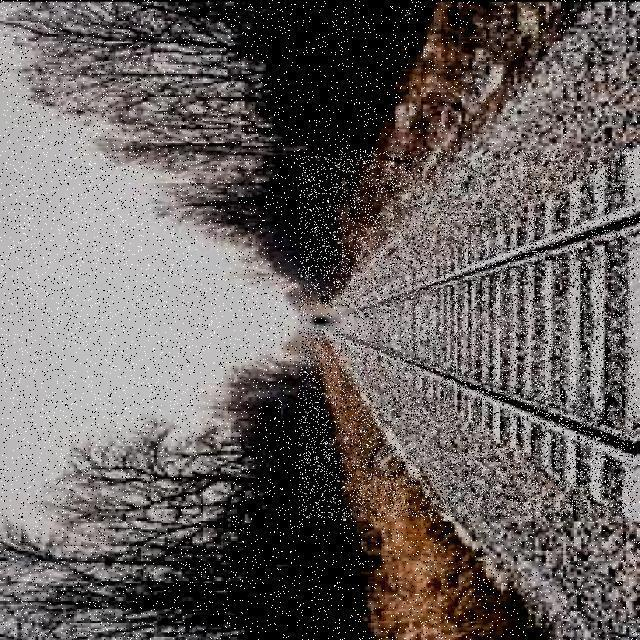rail: (301, 153, 635, 519)
